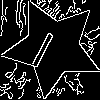I: (28, 22, 62, 70)
